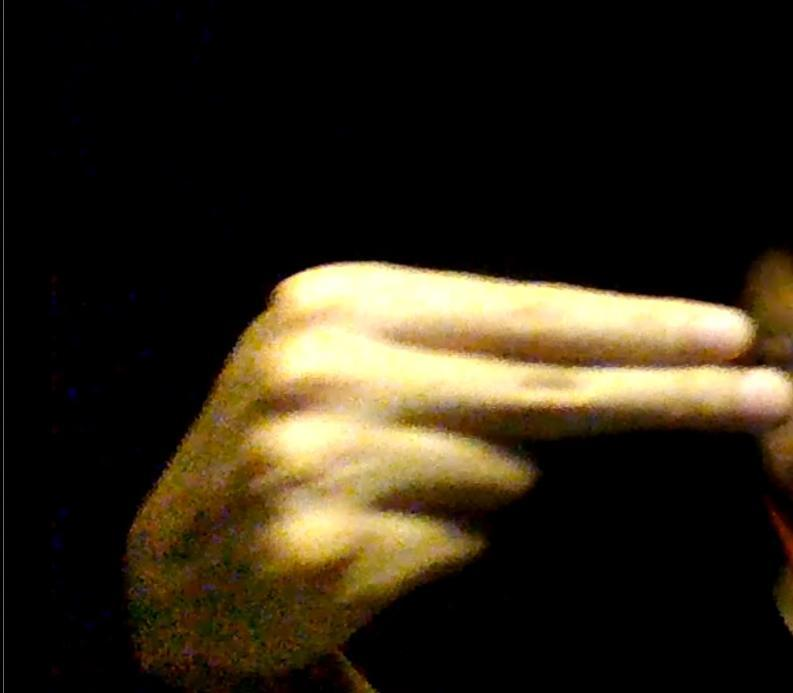h: (184, 260, 793, 678)
